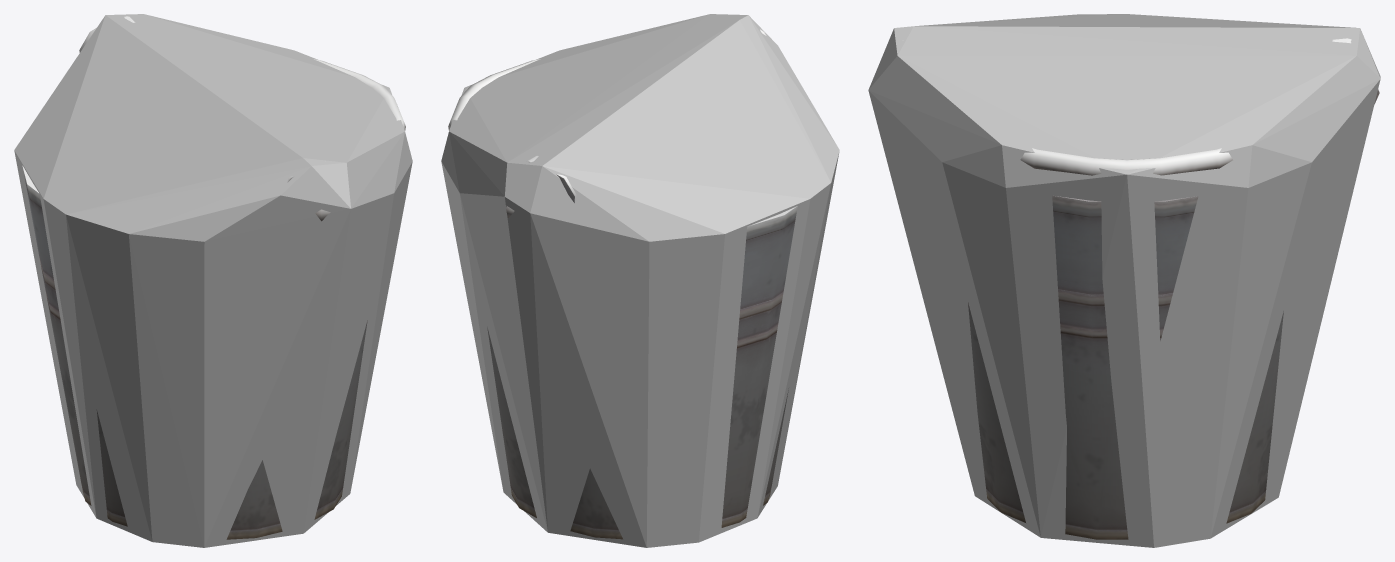
File: SM_BucketMetallic01_1.fbx
3 views of the same model, side by side, from view 1: azimuth 30°, elevation 25°; view 2: azimuth 150°, elevation 25°; view 3: azimuth 270°, elevation 25° (orthographic). The views are drawn at different scales.
Parts seen in each view (by area): view 1: SM_BucketMetallic01_1_ConvexHulls, SM_BucketMetallic01_1; view 2: SM_BucketMetallic01_1_ConvexHulls, SM_BucketMetallic01_1; view 3: SM_BucketMetallic01_1_ConvexHulls, SM_BucketMetallic01_1.
Boxes of the visible parts, box(x1,y1,x2,y2) form: SM_BucketMetallic01_1_ConvexHulls: box(14, 14, 412, 547); SM_BucketMetallic01_1: box(22, 16, 405, 539); SM_BucketMetallic01_1_ConvexHulls: box(441, 14, 839, 547); SM_BucketMetallic01_1: box(448, 29, 797, 539); SM_BucketMetallic01_1_ConvexHulls: box(868, 14, 1380, 547); SM_BucketMetallic01_1: box(968, 38, 1379, 539).
Bounding box in the file's own units: 44.61 × 50.6 × 49.54.
2 materials, 1 textured.
